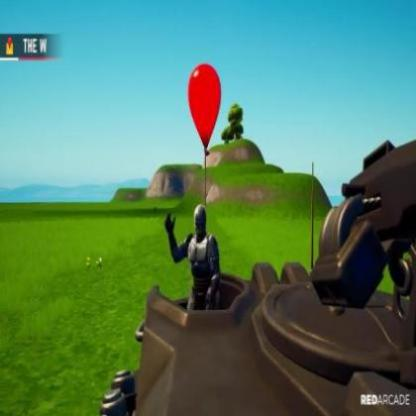person: (182, 216, 223, 302)
